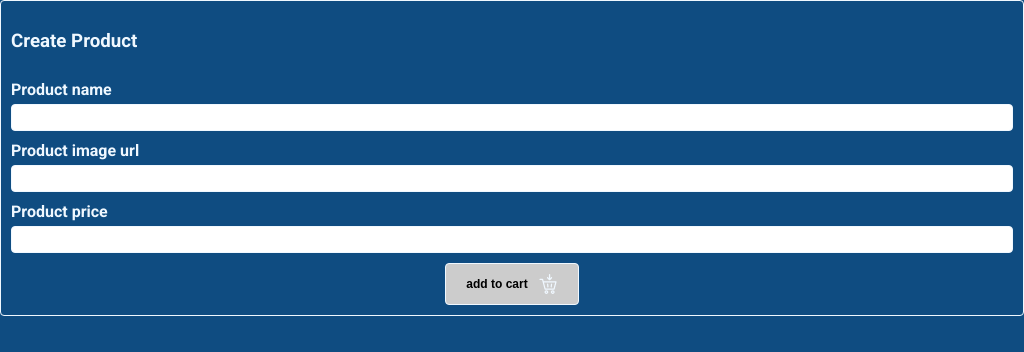
Test: AddToCartForm › checks product image input valid
Type "https://ipsumimage.appspot.com/140x100" into the field labelled "Product image url".
click(512, 179); type("https://ipsumimage.appspot.com/140x100")  # box [11, 165, 1013, 192]
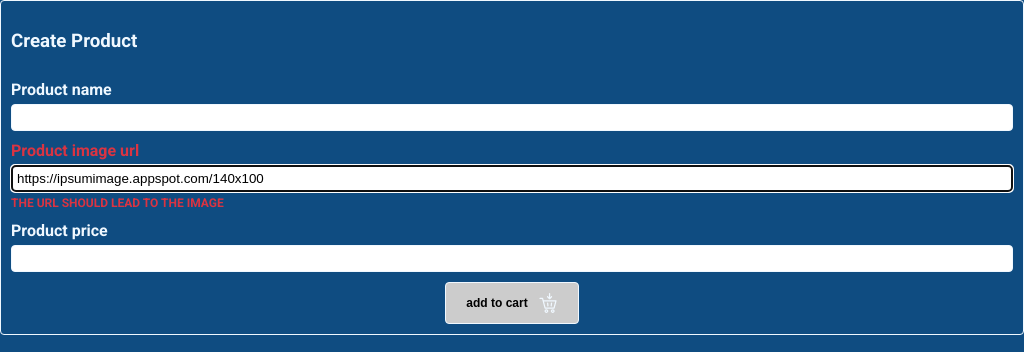
Expected: the text "The url should lead to the image" is shown, [11, 196, 224, 210]
Type "https://ipsumimage.appspot.com/140x100.png" into the field labelled "Product image url".
click(512, 179); type("https://ipsumimage.appspot.com/140x100.png")  # box [11, 165, 1013, 192]
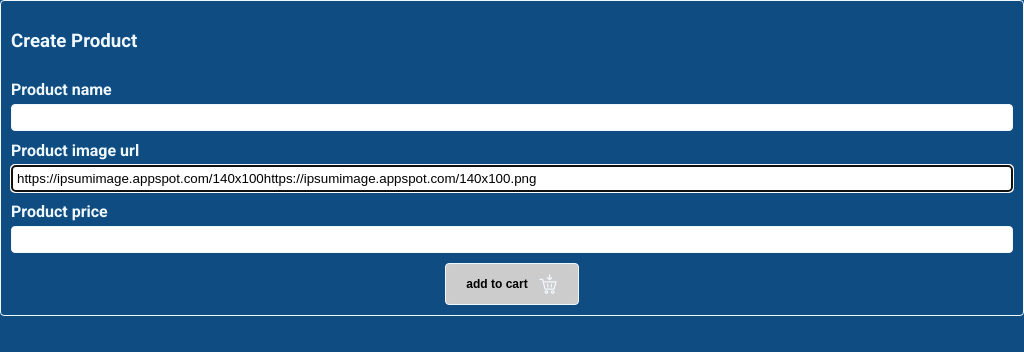
Expected: the text "The url should lead to the image" is gone
